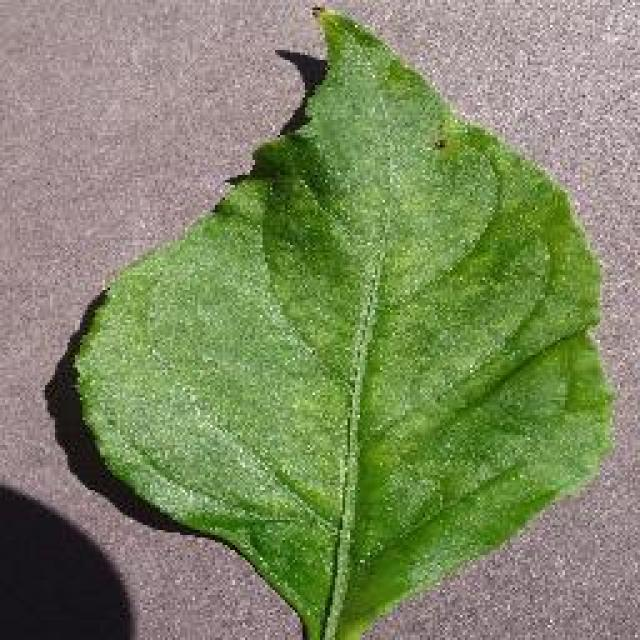Chilli_Healthy: (68, 2, 618, 638)
